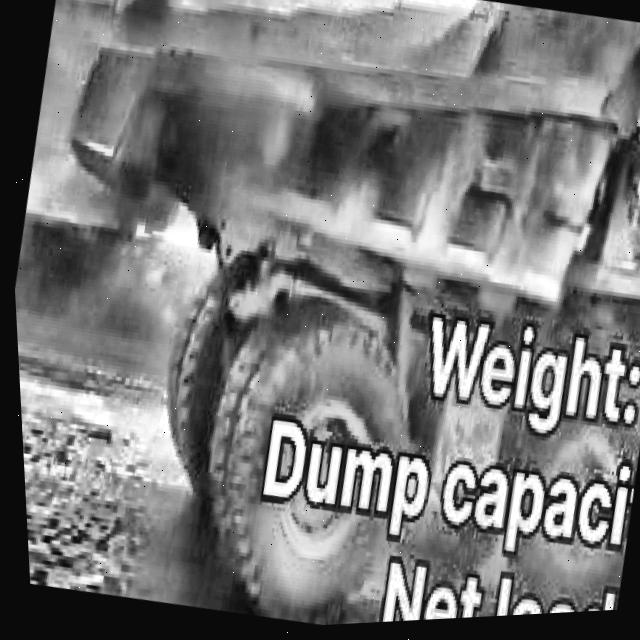dump_truck: (54, 0, 640, 361)
